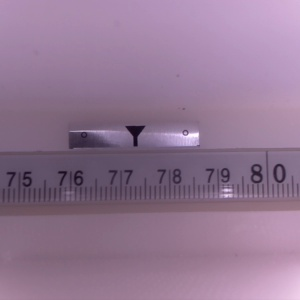0: (272, 164, 286, 183)
5: (22, 171, 32, 187)
6: (72, 170, 83, 186)
7: (56, 170, 67, 187), (4, 171, 15, 187), (205, 168, 215, 184), (107, 169, 117, 185), (156, 168, 166, 184), (122, 169, 132, 185)
8: (250, 164, 263, 183), (172, 168, 182, 184)
9: (220, 169, 231, 184)
finger: (123, 126, 145, 147)
